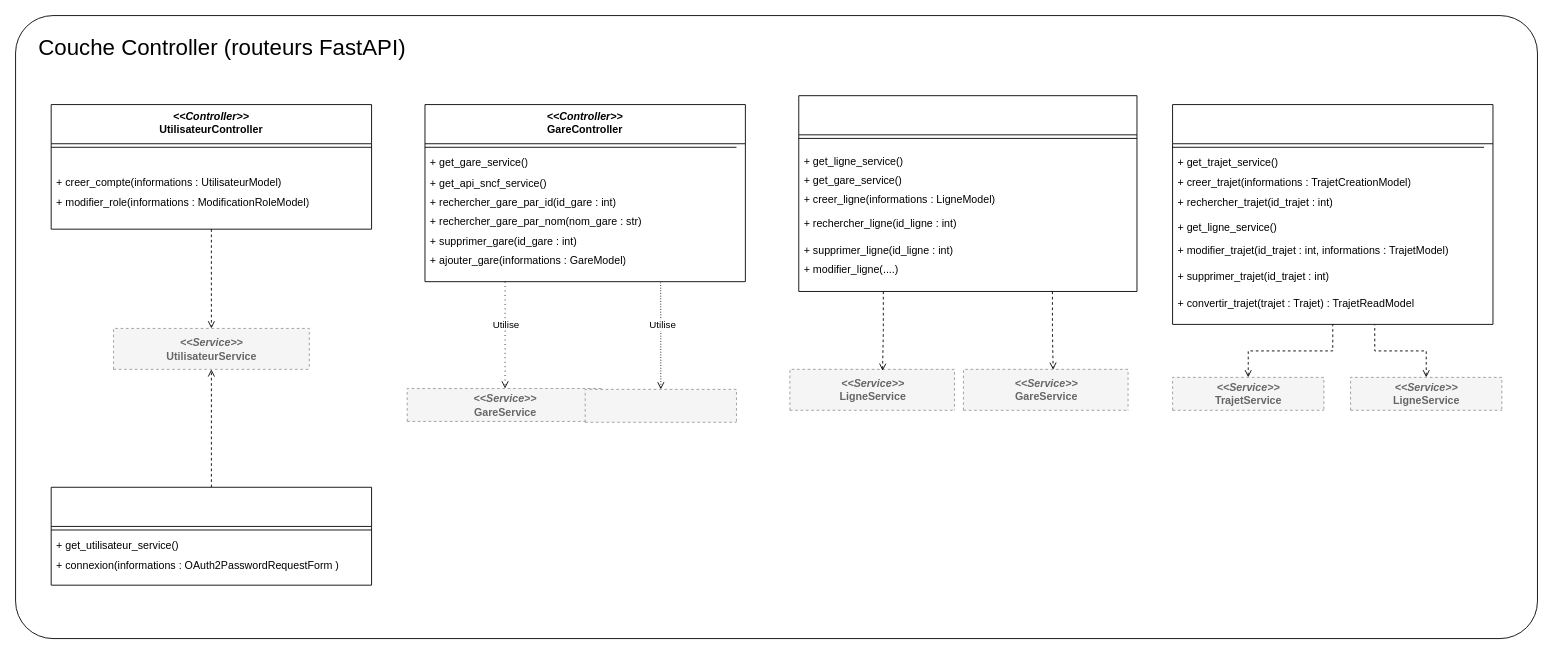
The diagram is 1553 pixels wide and 654 high, and some of its shapes have lost their labels. Each missing label, with the box of its shape:
<<Controller>> ConnexionController: (50, 486, 372, 585)
<<Controller>> LigneController: (798, 95, 1137, 291)
<<Controller>> TrajetController: (1172, 104, 1493, 324)
<<Service>> ApiSncfService: (584, 388, 736, 422)
